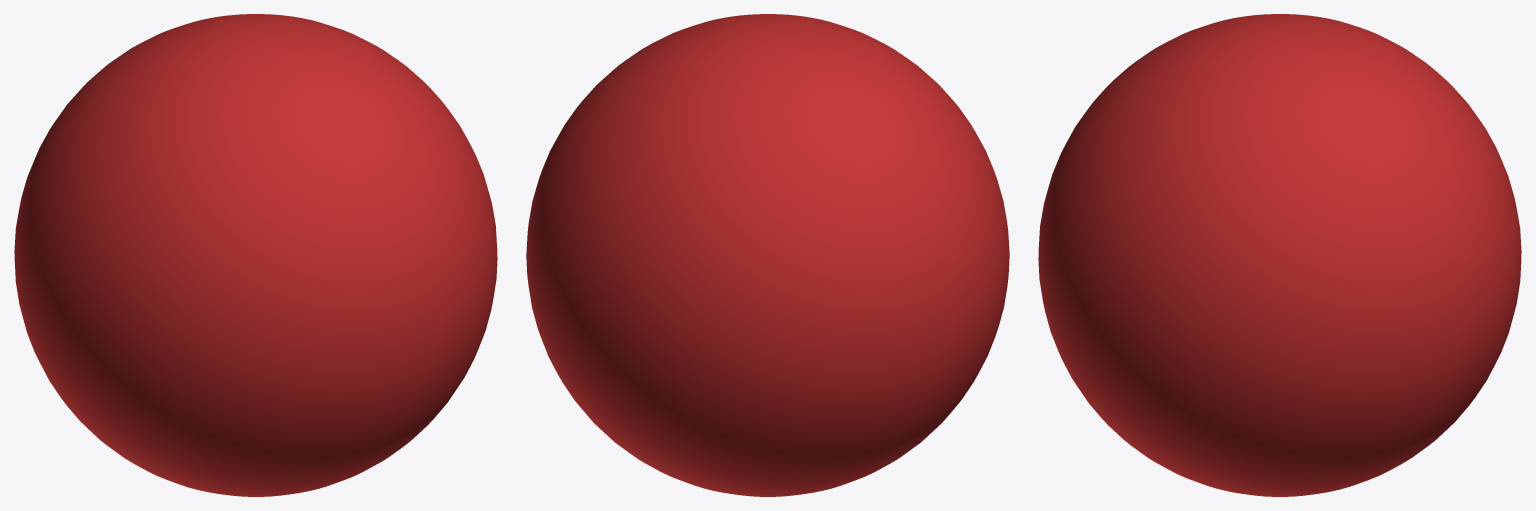
Rendered from kula.obj.
The picture shows the model from 3 angles, left to right: view 1: azimuth 30°, elevation 25°; view 2: azimuth 150°, elevation 25°; view 3: azimuth 270°, elevation 25°; orthographic projection.
Size of the model in its own units: 44.8 by 44.84 by 44.8.
